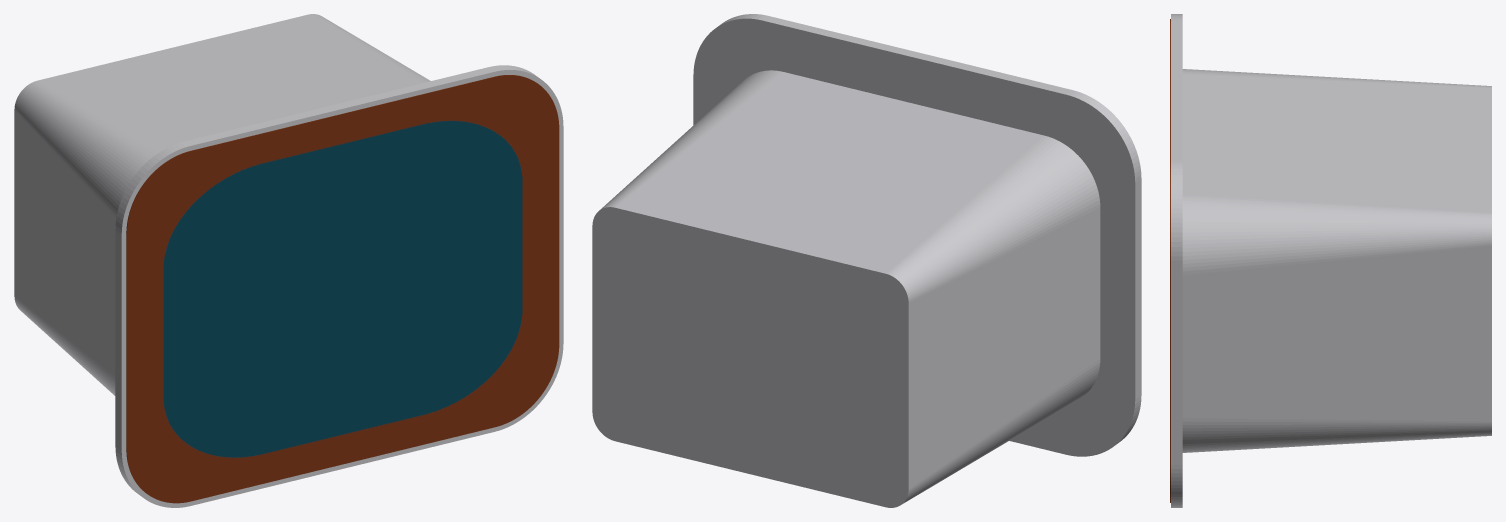
The picture shows the model from 3 angles, left to right: view 1: azimuth 30°, elevation 25°; view 2: azimuth 150°, elevation 25°; view 3: azimuth 270°, elevation 25°; orthographic projection. The views are drawn at different scales.
Parts seen in each view (by area): view 1: heinz_snap_pot_visual; view 2: heinz_snap_pot_visual; view 3: heinz_snap_pot_visual.
Boxes of the visible parts, x1=… form: heinz_snap_pot_visual: x1=14, y1=14, x2=563, y2=507; heinz_snap_pot_visual: x1=592, y1=14, x2=1141, y2=507; heinz_snap_pot_visual: x1=1170, y1=14, x2=1491, y2=507.
Size of the model in its own units: 0.095 by 0.074 by 0.0635.
2 materials, 1 textured.
